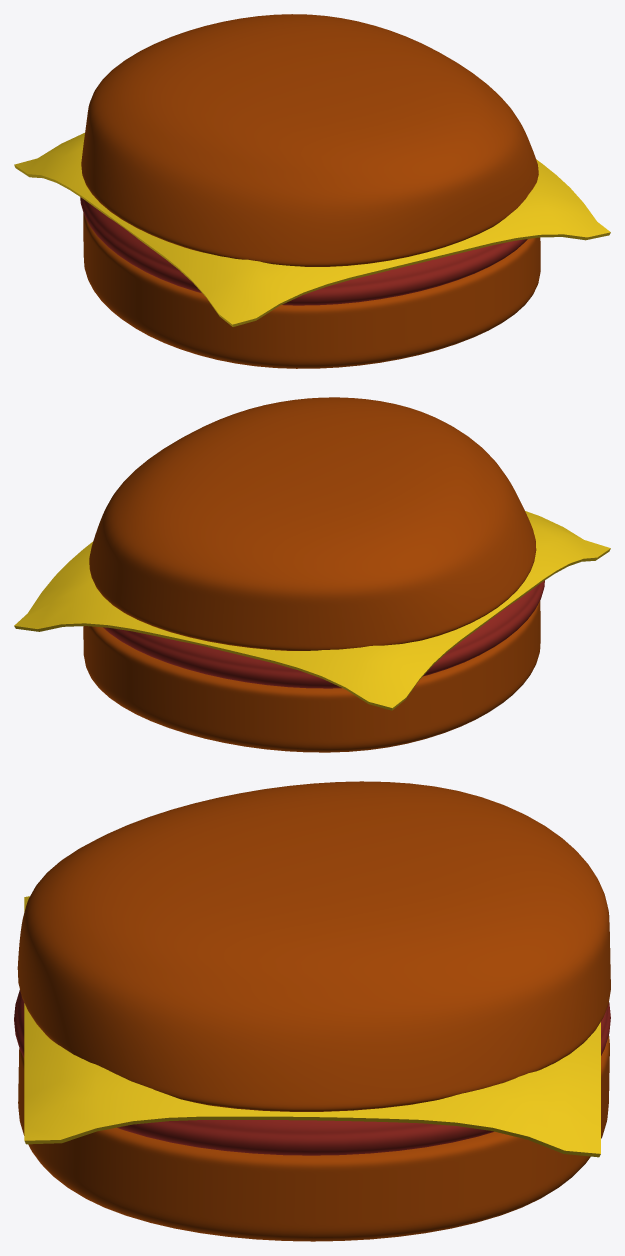
The model's file is hamburger.glb.
The picture shows the model from 3 angles, top to bottom: view 1: azimuth 30°, elevation 25°; view 2: azimuth 150°, elevation 25°; view 3: azimuth 270°, elevation 25°; orthographic projection. The views are drawn at different scales.
Parts seen in each view (by area): view 1: Cube.002, Cube, Plane, Cube.001; view 2: Cube.002, Cube, Plane, Cube.001; view 3: Cube.002, Cube, Plane, Cube.001.
Part boxes in pixels (x1,y1,x2,y2): Cube.002: [81, 14, 538, 266]; Cube: [83, 213, 540, 368]; Plane: [14, 133, 610, 326]; Cube.001: [80, 197, 527, 305]; Cube.002: [89, 397, 536, 650]; Cube: [83, 601, 540, 752]; Plane: [14, 511, 610, 710]; Cube.001: [103, 580, 544, 688]; Cube.002: [17, 781, 610, 1111]; Cube: [18, 1035, 609, 1241]; Plane: [24, 896, 600, 1157]; Cube.001: [14, 990, 610, 1155].
Bounding box in the file's own units: 9.24 × 4.92 × 9.25.
